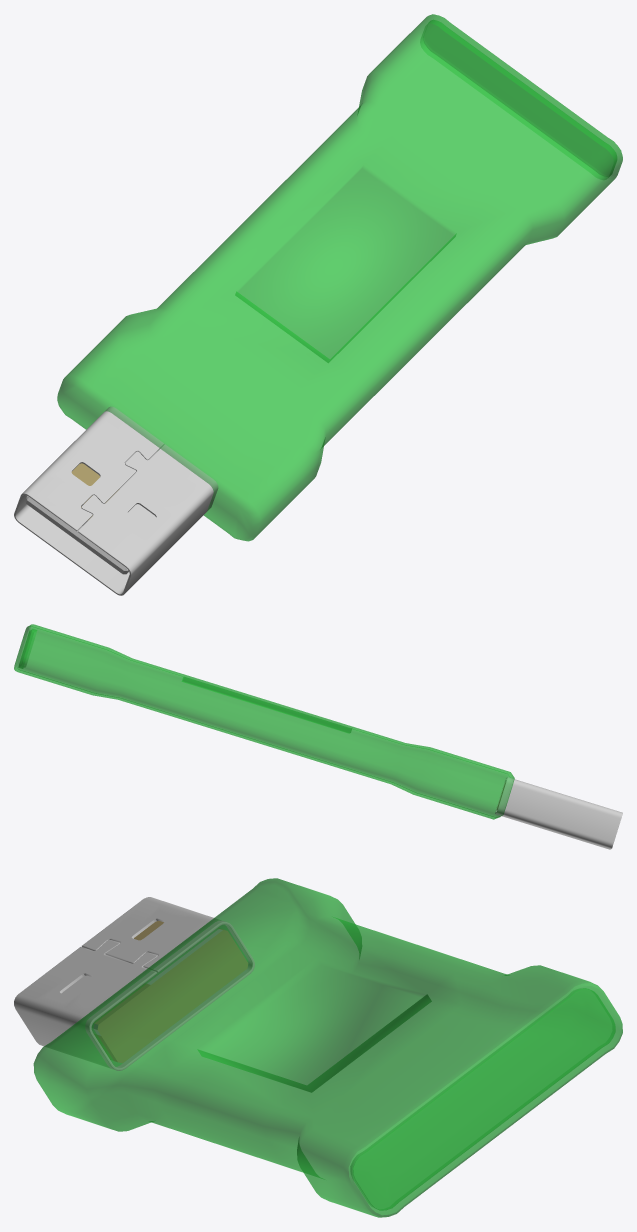
3 renders of one model, top to bottom at view 1: azimuth 30°, elevation 25°; view 2: azimuth 150°, elevation 25°; view 3: azimuth 270°, elevation 25°, orthographic. The views are drawn at different scales.
Visible parts, largest first — view 1: 02_USB_out_004_Mesh.007; view 2: 02_USB_out_004_Mesh.007; view 3: 02_USB_out_004_Mesh.007.
Boxes of the visible parts, x1=… form: 02_USB_out_004_Mesh.007: x1=14, y1=14, x2=622, y2=595; 02_USB_out_004_Mesh.007: x1=14, y1=624, x2=622, y2=849; 02_USB_out_004_Mesh.007: x1=14, y1=878, x2=622, y2=1217.
Size of the model in its own units: 4.92 by 2.1 by 2.91.
